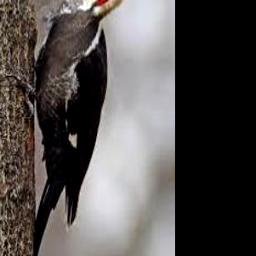Woodpecker: (6, 0, 140, 256)
